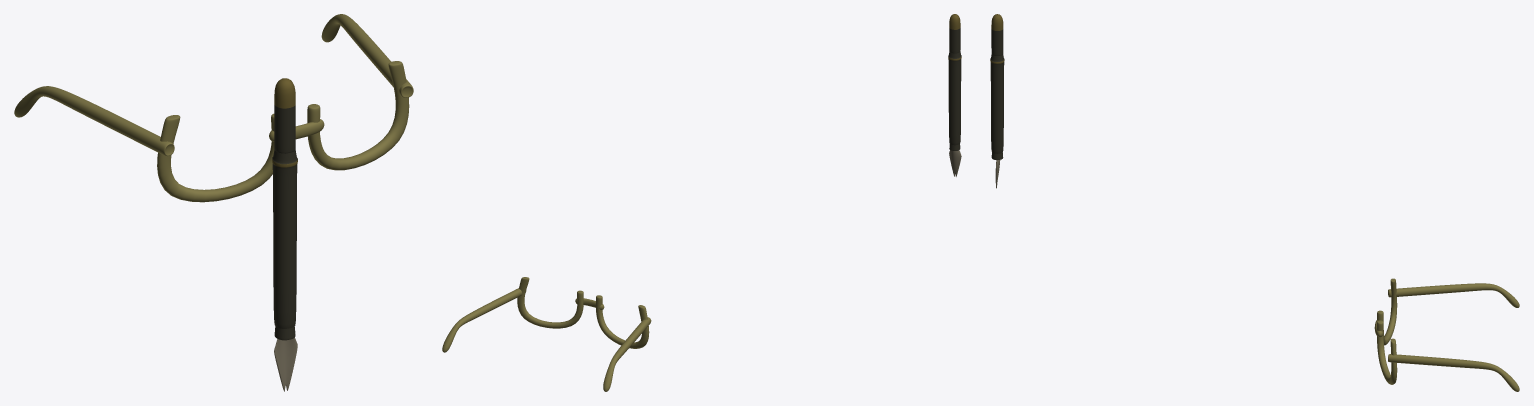
Rendered from CatPenSmooth.fbx.
The picture shows the model from 3 angles, left to right: view 1: azimuth 30°, elevation 25°; view 2: azimuth 150°, elevation 25°; view 3: azimuth 270°, elevation 25°; orthographic projection. The views are drawn at different scales.
Visible parts, largest first — view 1: pCube15, pCube8; view 2: pCube15, pCube8; view 3: pCube15, pCube8.
Part boxes in pixels (left/top/right/bottom): pCube15: left=14, top=14, right=413, bottom=202; pCube8: left=272, top=78, right=297, bottom=391; pCube15: left=442, top=277, right=651, bottom=391; pCube8: left=948, top=14, right=961, bottom=176; pCube15: left=1374, top=278, right=1519, bottom=391; pCube8: left=990, top=14, right=1004, bottom=188.
Size of the model in its own units: 3.04 by 2.47 by 4.76.
